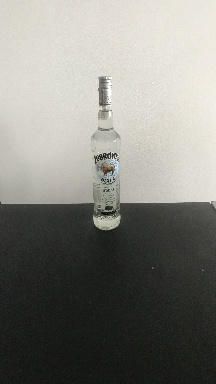butelka: (89, 72, 122, 233)
